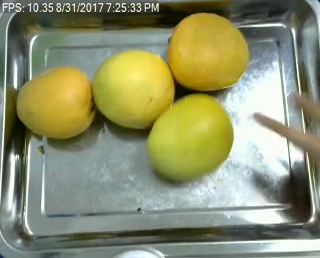Mango: (146, 93, 235, 182), (92, 50, 177, 129), (167, 11, 250, 88), (16, 66, 94, 140)
